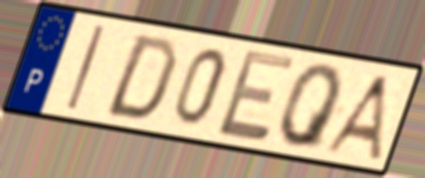0: (171, 44, 230, 130)
A: (319, 72, 393, 164)
D: (100, 32, 181, 124)
E: (214, 46, 299, 144)
I: (63, 22, 108, 114)
Q: (277, 62, 345, 153)
